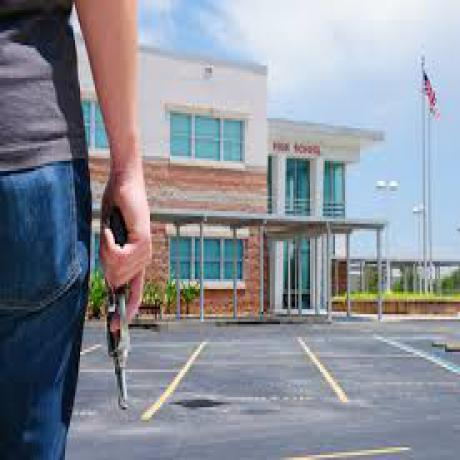Guns: (96, 212, 144, 406)
